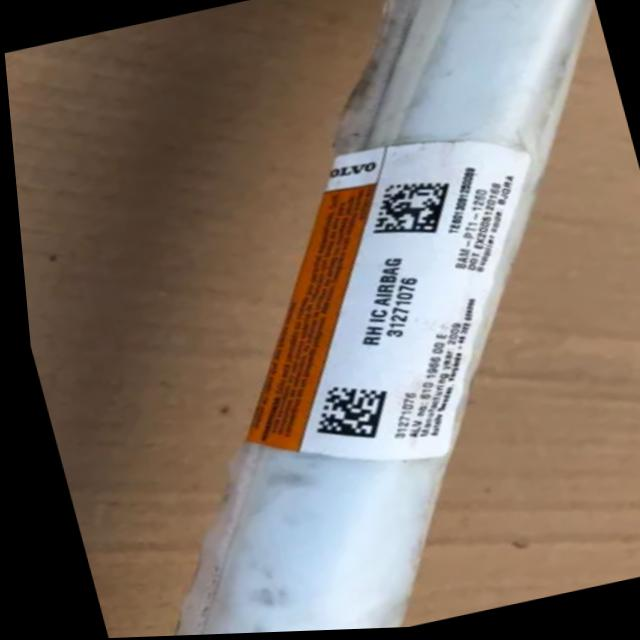datamatrix: (355, 174, 460, 250), (295, 376, 393, 453)
